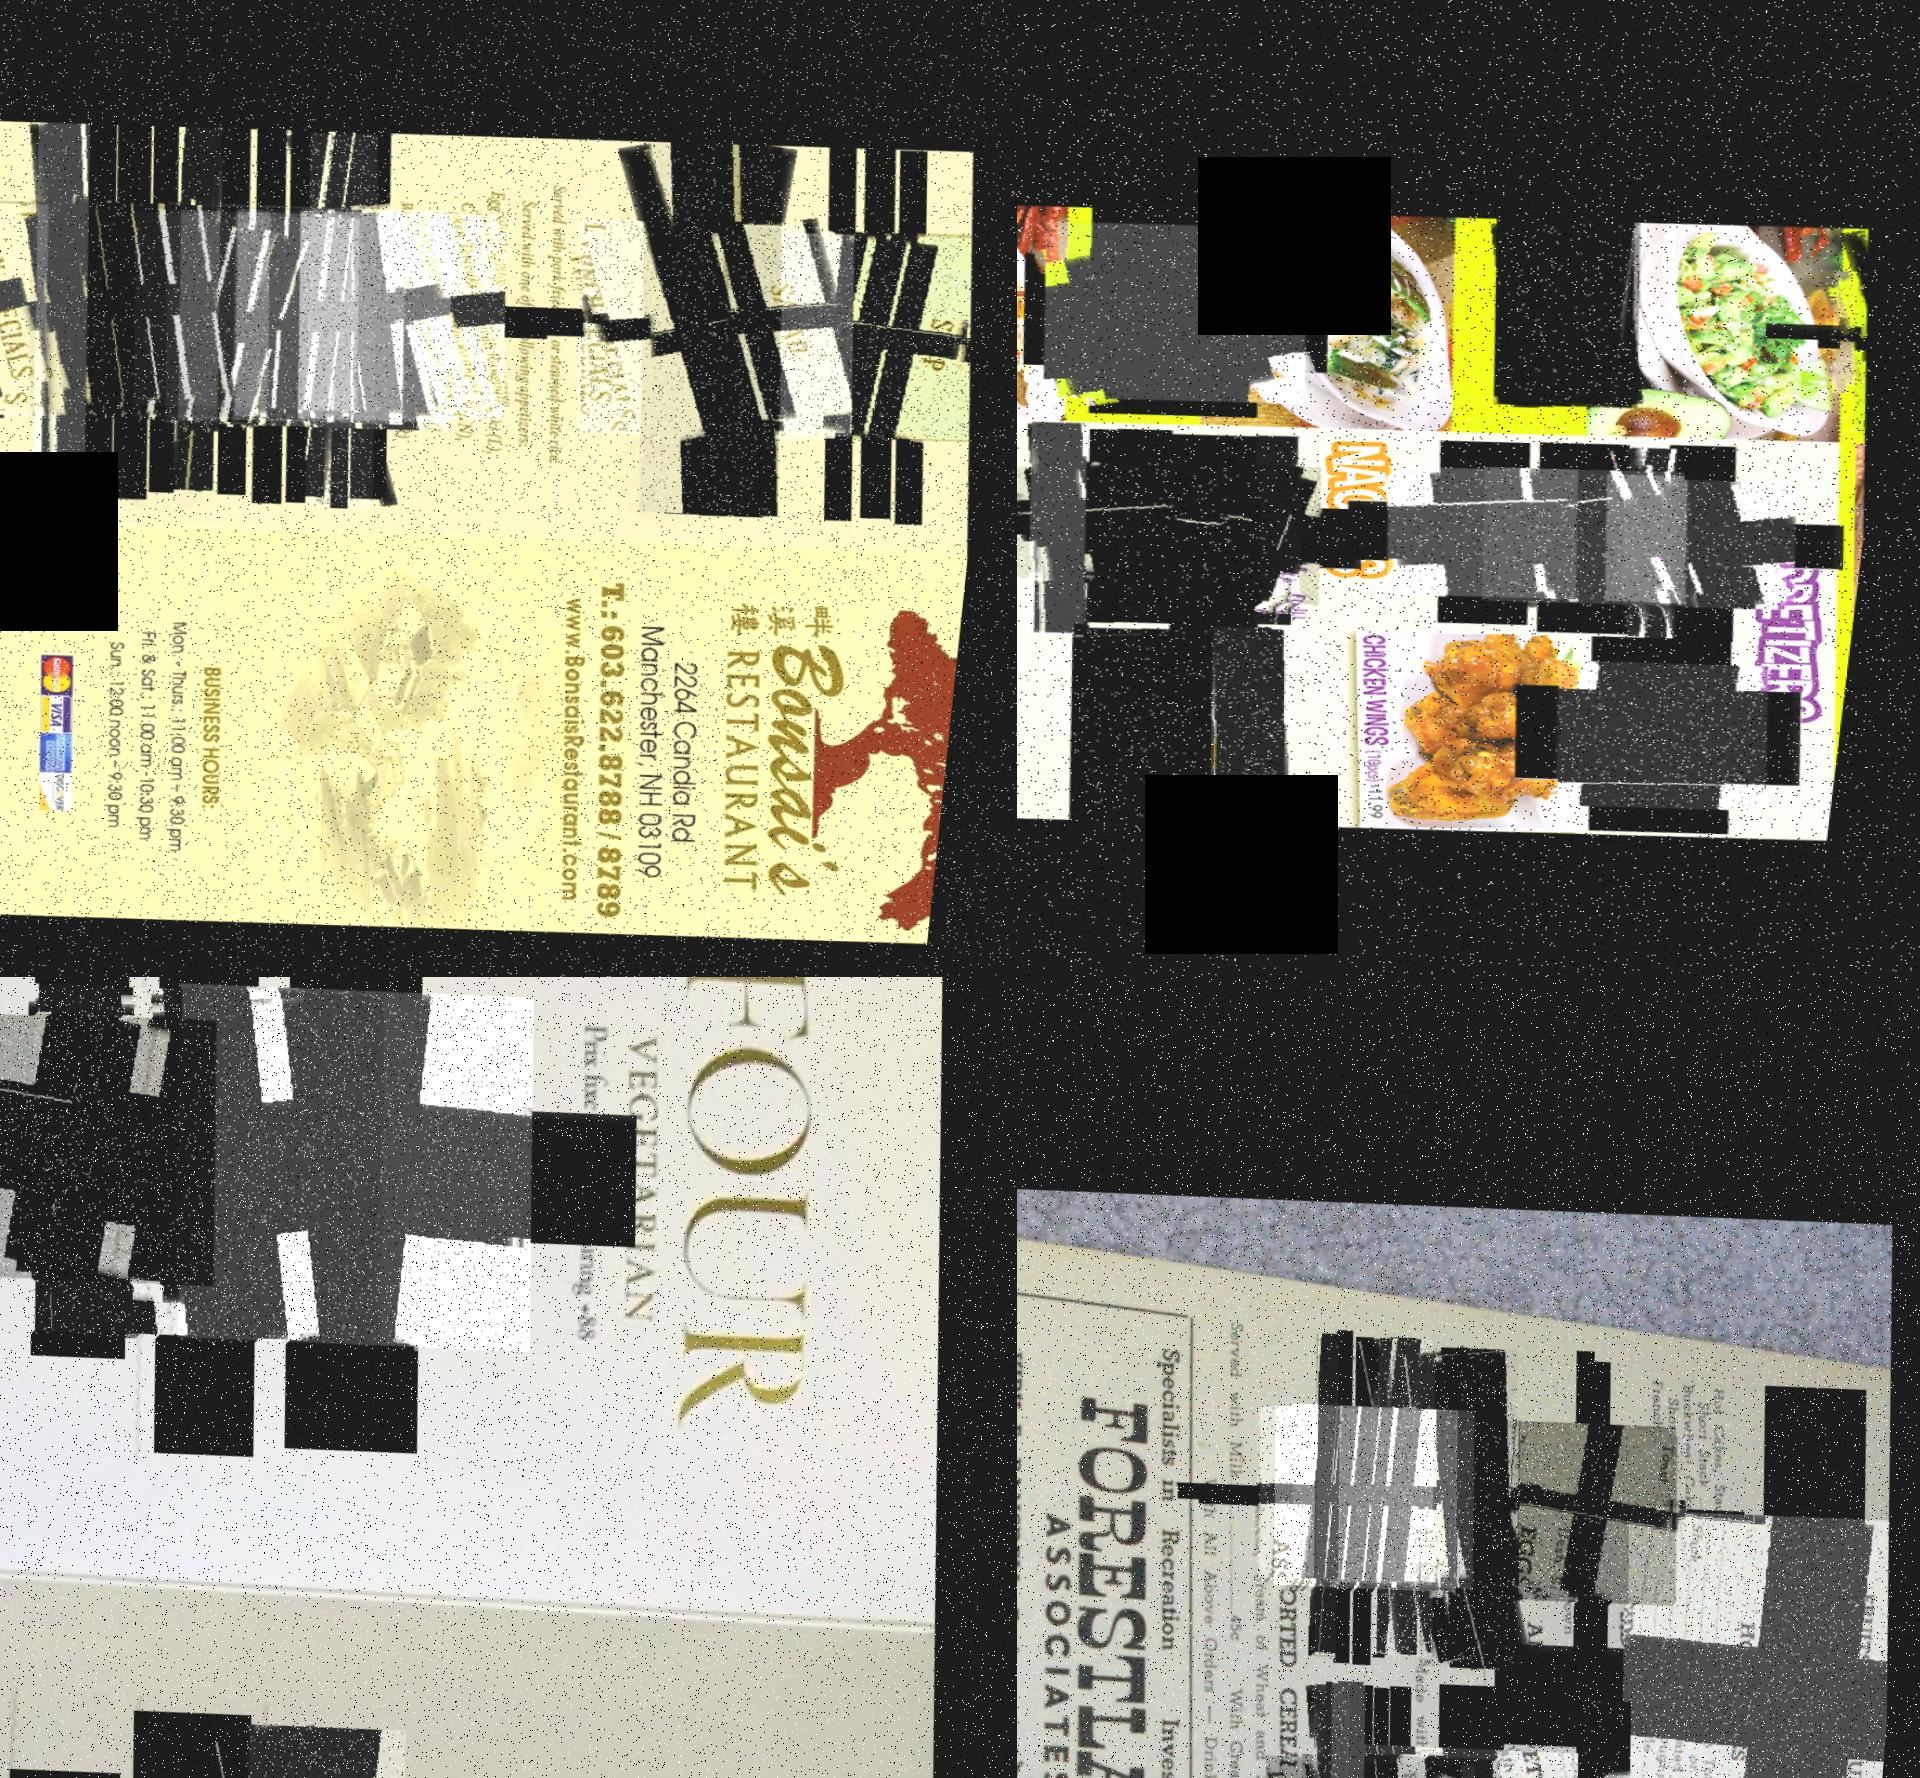Menu-Items: (157, 977, 560, 1346), (15, 977, 410, 1341), (1607, 1474, 1912, 1778), (154, 184, 473, 438), (564, 194, 876, 440), (17, 184, 323, 428), (122, 191, 426, 432), (224, 189, 527, 428), (0, 186, 293, 432), (0, 977, 236, 1280), (696, 199, 993, 438), (99, 196, 380, 418), (0, 186, 258, 428), (1034, 207, 1330, 410), (734, 202, 993, 432), (615, 125, 764, 505), (769, 207, 993, 433), (281, 124, 413, 503), (1403, 1326, 1544, 1663), (696, 127, 816, 505), (1268, 1385, 1473, 1596), (1489, 1395, 1693, 1604), (1286, 1383, 1490, 1592), (10, 119, 124, 493), (1554, 641, 1795, 808), (1253, 1387, 1450, 1589), (1107, 450, 1343, 612), (154, 122, 256, 488), (1069, 617, 1246, 826), (1514, 1405, 1703, 1599), (1482, 204, 1662, 405), (1480, 450, 1708, 607), (1361, 1323, 1458, 1649), (1385, 450, 1599, 597), (1606, 458, 1818, 605), (1047, 452, 1256, 595), (1204, 617, 1326, 823), (1017, 458, 1208, 589), (1300, 1323, 1366, 1651), (1020, 420, 1117, 639), (1614, 435, 1704, 629), (0, 197, 70, 420), (1248, 428, 1325, 622), (1361, 1719, 1604, 1778), (0, 124, 32, 502), (1840, 214, 1893, 420), (1301, 1729, 1524, 1778), (1266, 1733, 1483, 1778), (1316, 1668, 1398, 1778), (1574, 1681, 1664, 1778), (1300, 1671, 1380, 1778), (1823, 256, 1885, 381)
